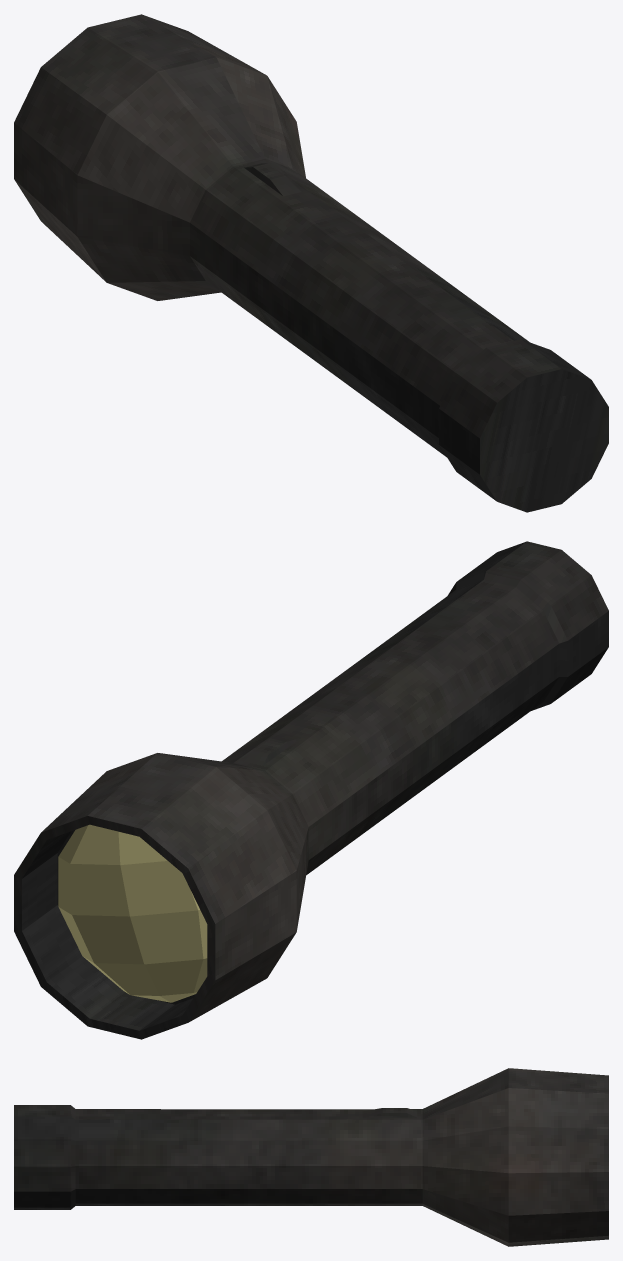
The model's file is FlashLight.glb.
3 renders of one model, top to bottom at view 1: azimuth 30°, elevation 25°; view 2: azimuth 150°, elevation 25°; view 3: azimuth 270°, elevation 25°, orthographic. The views are drawn at different scales.
Parts seen in each view (by area): view 1: Lens; view 2: Lens, FlashLight.001; view 3: Lens.
Part boxes in pixels (x1,y1,x2,y2): Lens: (14,14,608,512); Lens: (14,541,608,1039); FlashLight.001: (58,824,207,1002); Lens: (14,1068,608,1246).
Size of the model in its own units: 2.25 by 2.25 by 7.65.
2 materials, 1 textured.
